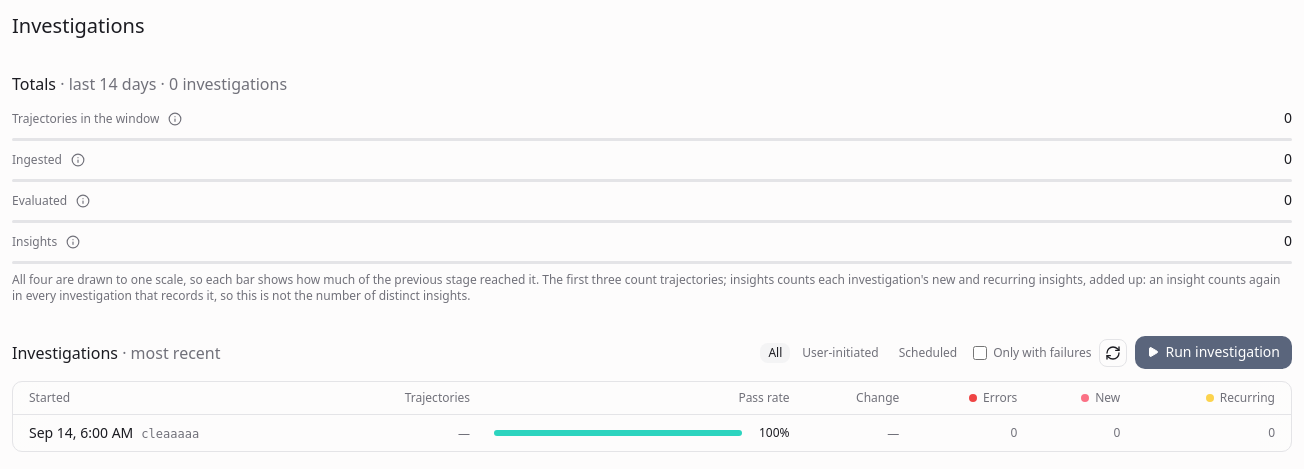
Test: the only-with-failures filter › says every sweep passed rather than showing an empty account
Check: the link "cleaaaaa" is shown, box [141,426,199,442]
Click the checkbox labelled "Only with failures" at (980, 352), box [973,346,987,360]
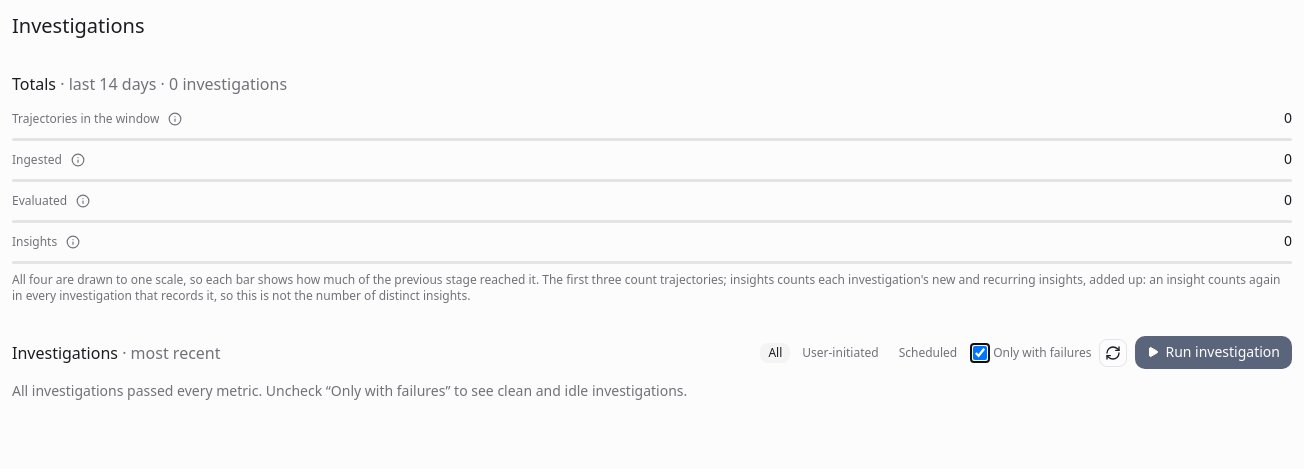
Check: the text "All investigations passed every metric" is shown, box [12,381,687,400]
